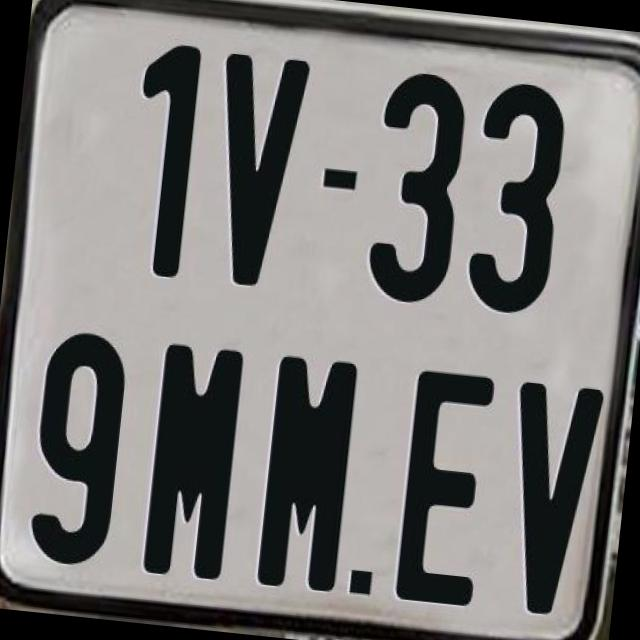1: (121, 39, 202, 283)
3: (361, 66, 471, 308), (459, 76, 566, 322)
9: (20, 328, 128, 576)
E: (392, 368, 502, 610)
M: (255, 351, 366, 599), (140, 337, 250, 580)
V: (493, 379, 607, 621), (202, 52, 312, 291)
